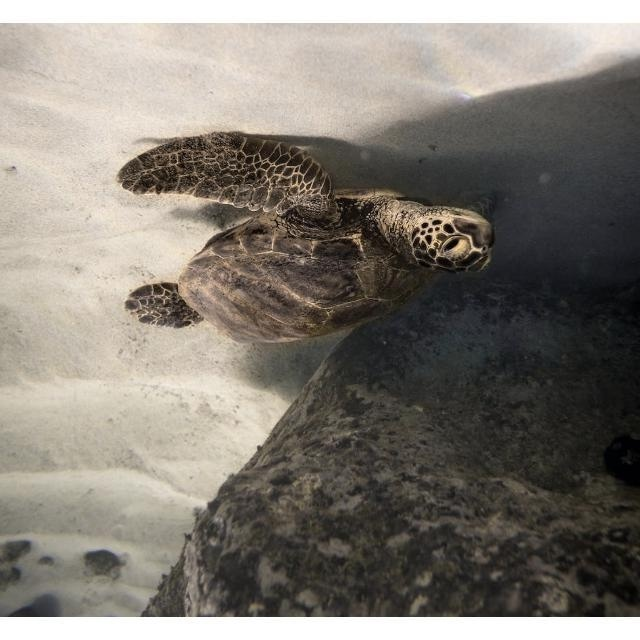turtle: (118, 130, 498, 346)
